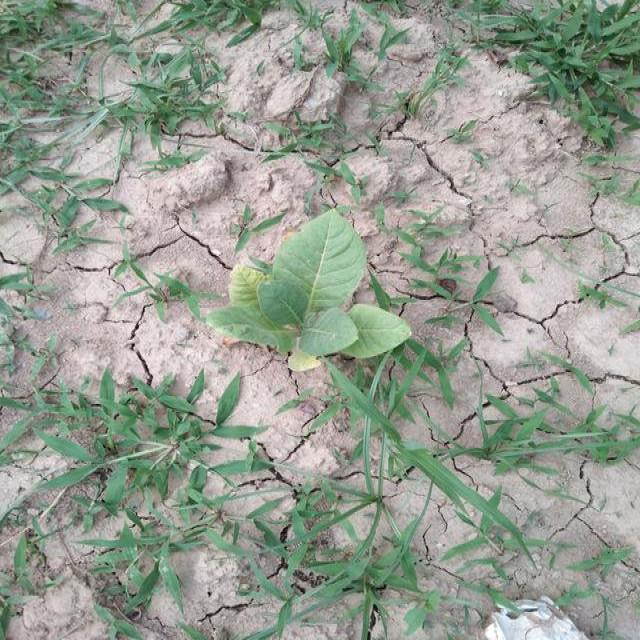crop: (215, 203, 412, 376)
